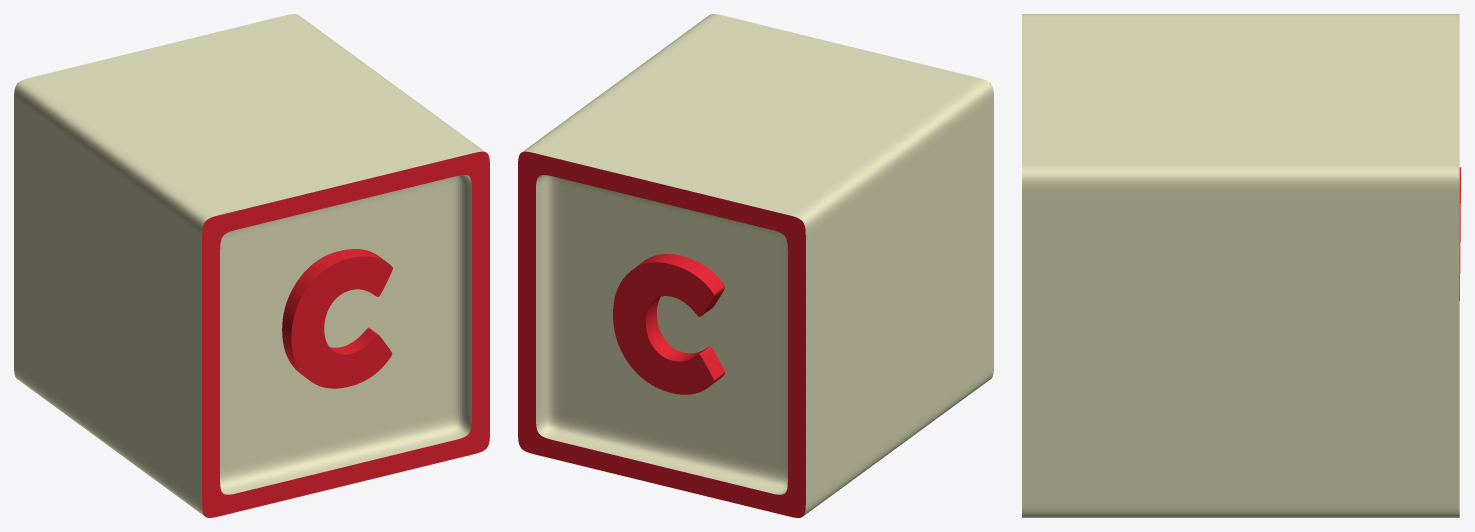
Rendered from lettercblock.fbx.
3 views of the same model, side by side, from view 1: azimuth 30°, elevation 25°; view 2: azimuth 150°, elevation 25°; view 3: azimuth 270°, elevation 25° (orthographic). The views are drawn at different scales.
Visible parts, largest first — view 1: Cube, Cube.002, Text; view 2: Cube, Cube.001, Text.001; view 3: Cube.
Boxes of the visible parts, box(x1,y1,x2,y2) form: Cube: box(14, 14, 485, 515); Cube.002: box(202, 151, 489, 517); Text: box(282, 249, 392, 388); Cube: box(522, 14, 993, 515); Cube.001: box(518, 151, 805, 517); Text.001: box(613, 254, 724, 394); Cube: box(1022, 14, 1459, 517).
Bounding box in the file's own units: 1196 × 1196 × 1359.
